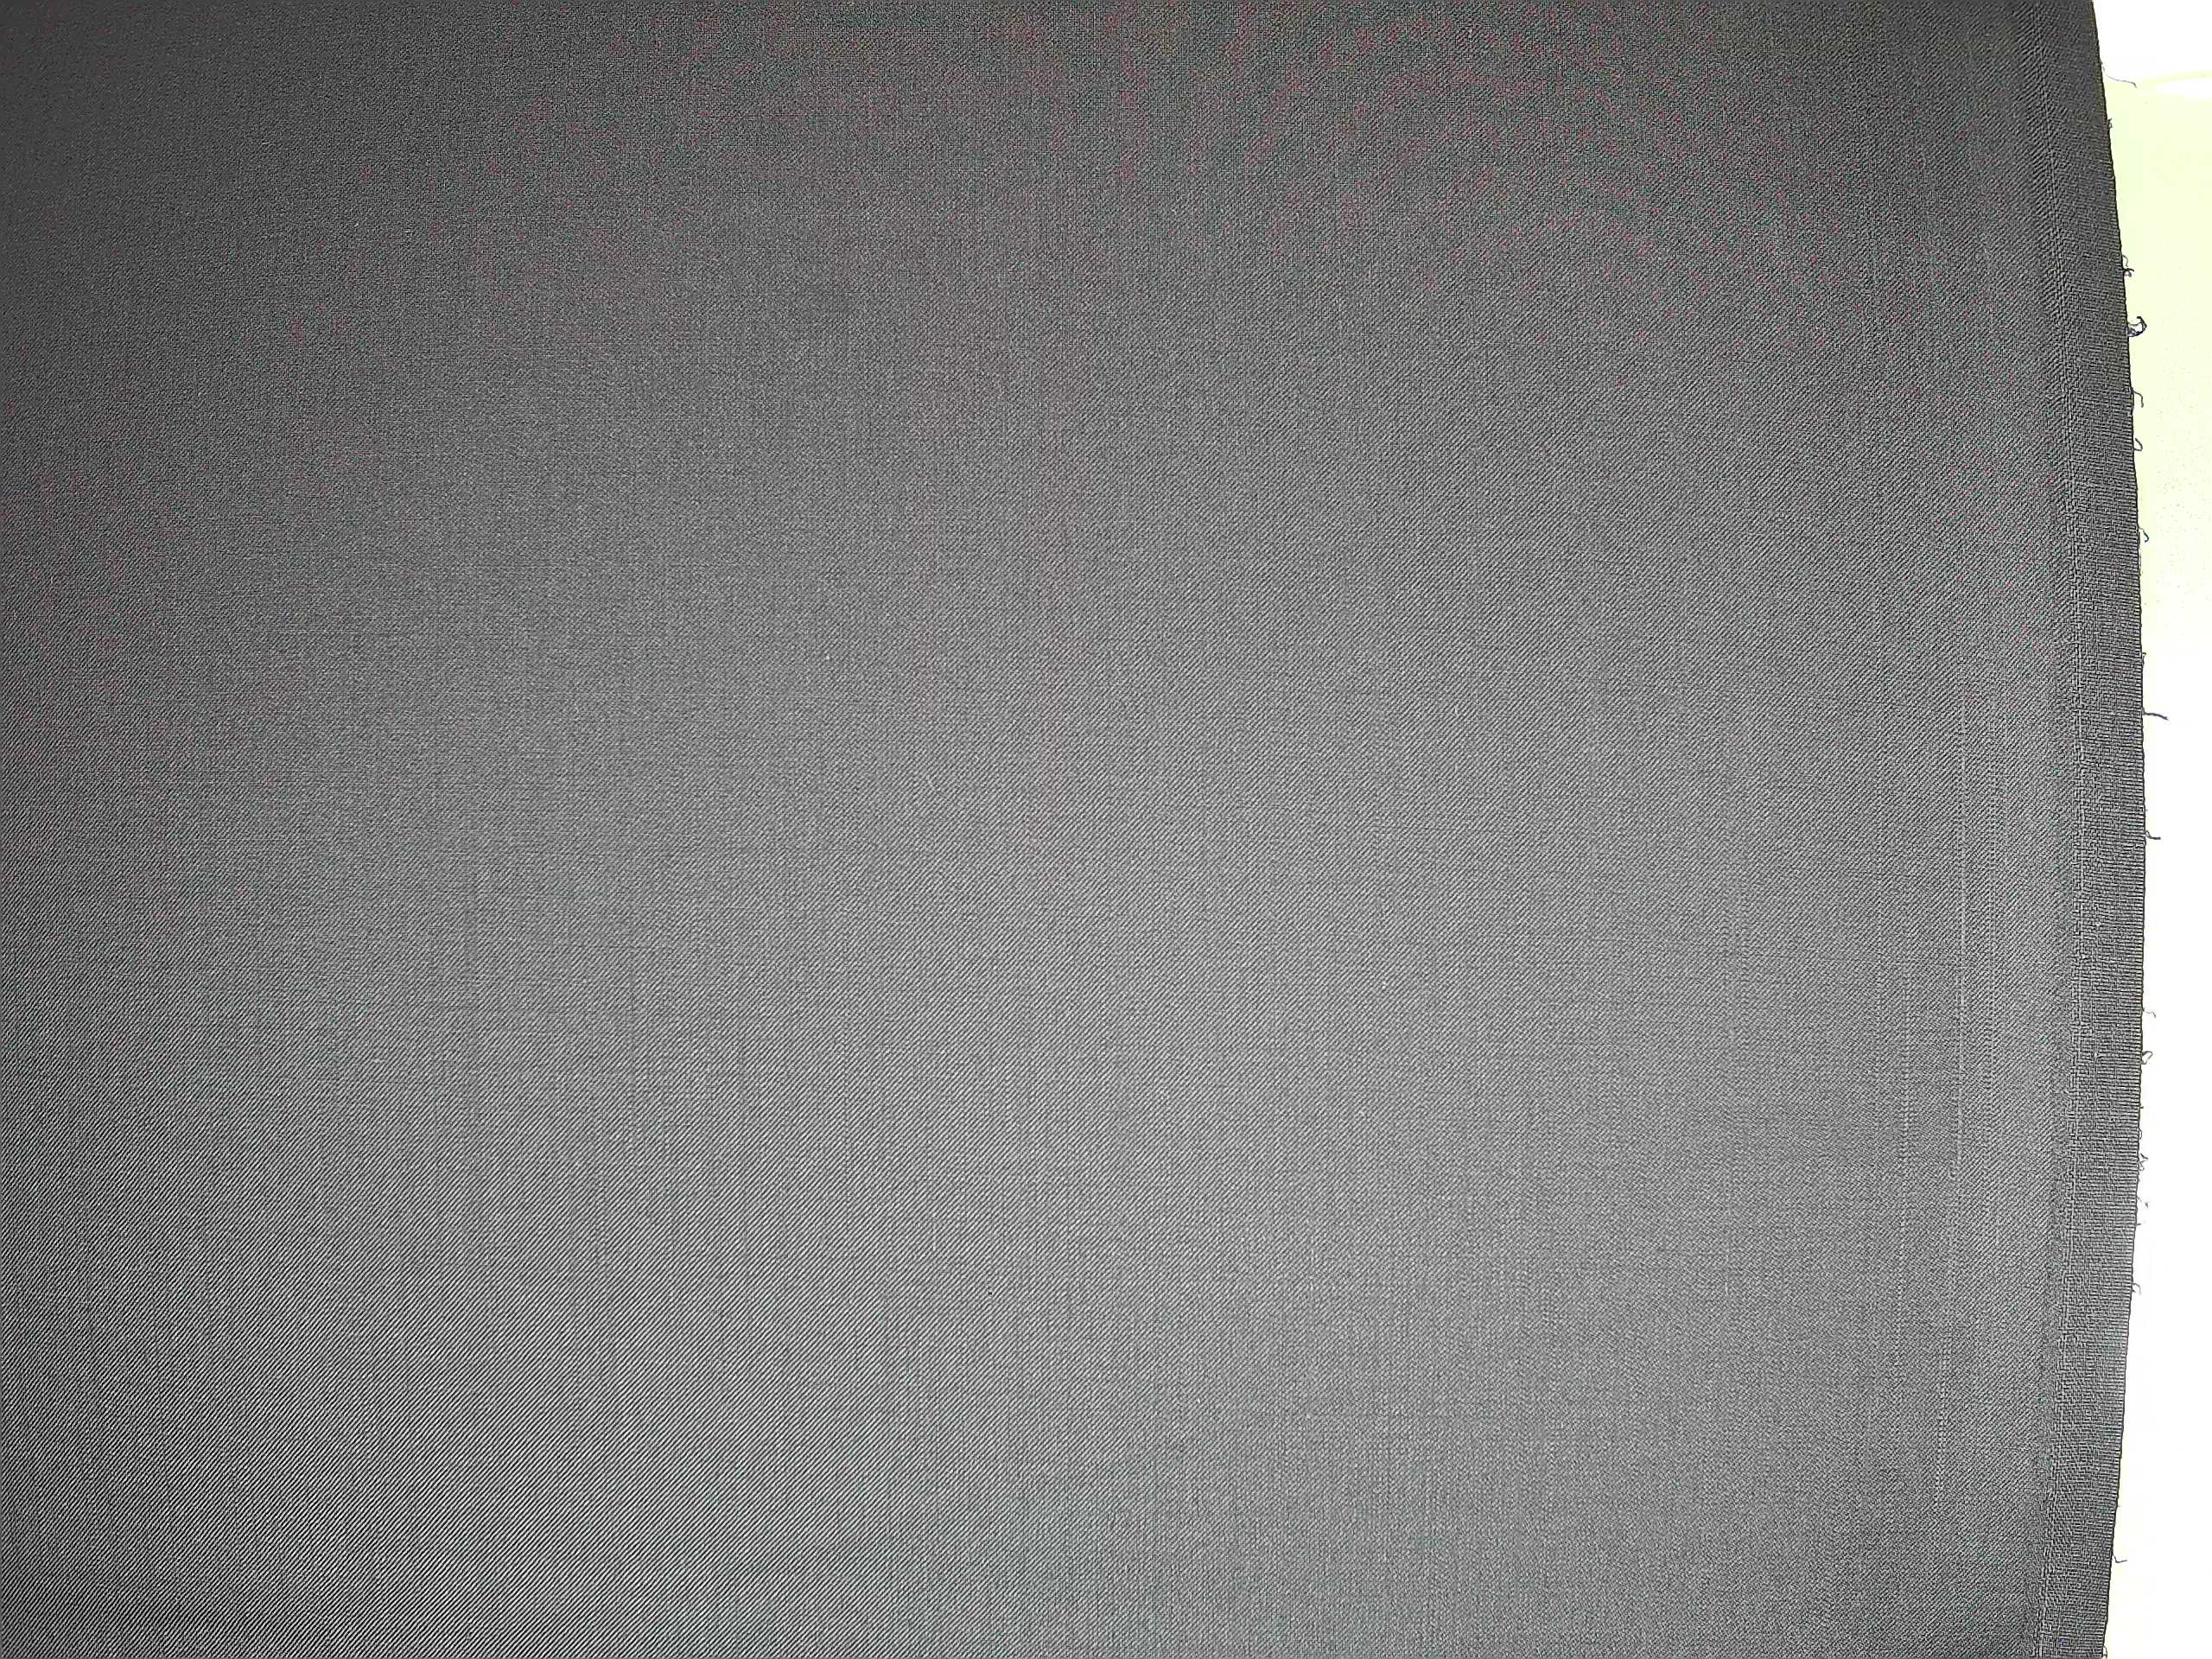hanging-warp: (1860, 575, 1986, 1549)
